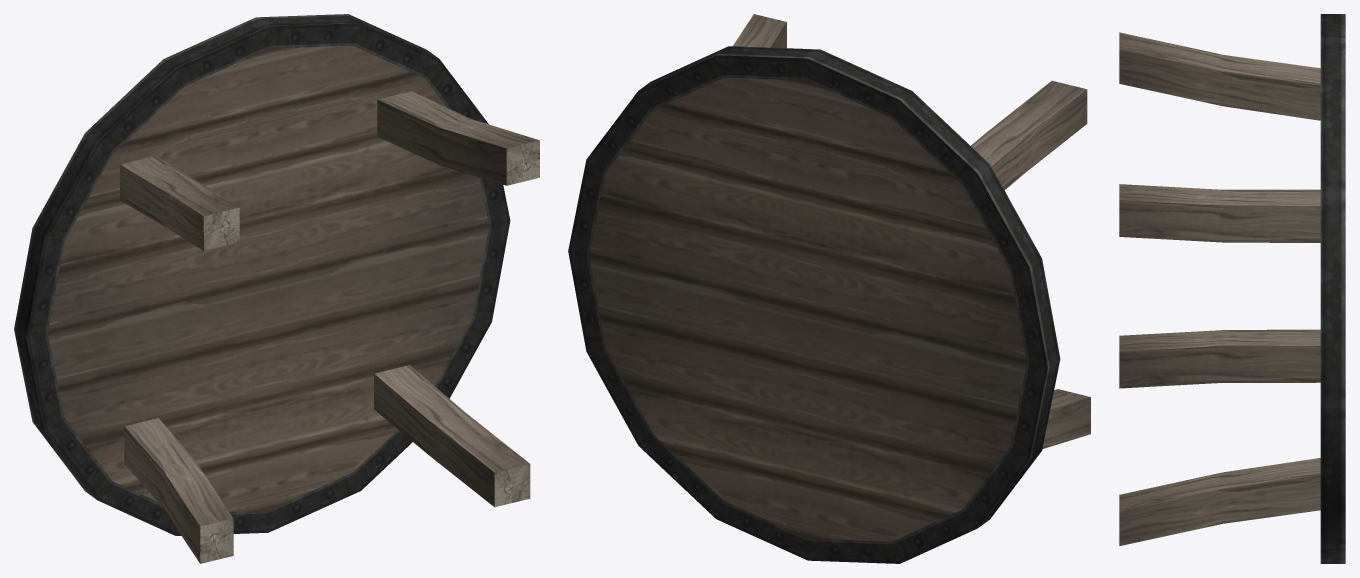
The model's file is Table_Round_B.fbx.
3 renders of one model, left to right at view 1: azimuth 30°, elevation 25°; view 2: azimuth 150°, elevation 25°; view 3: azimuth 270°, elevation 25°, orthographic.
Visible parts, largest first — view 1: Table_Round_B; view 2: Table_Round_B; view 3: Table_Round_B.
Boxes of the visible parts, x1=… form: Table_Round_B: x1=14, y1=14, x2=539, y2=563; Table_Round_B: x1=568, y1=14, x2=1090, y2=563; Table_Round_B: x1=1119, y1=14, x2=1345, y2=563.
Size of the model in its own units: 2.25 by 2.25 by 0.926.
